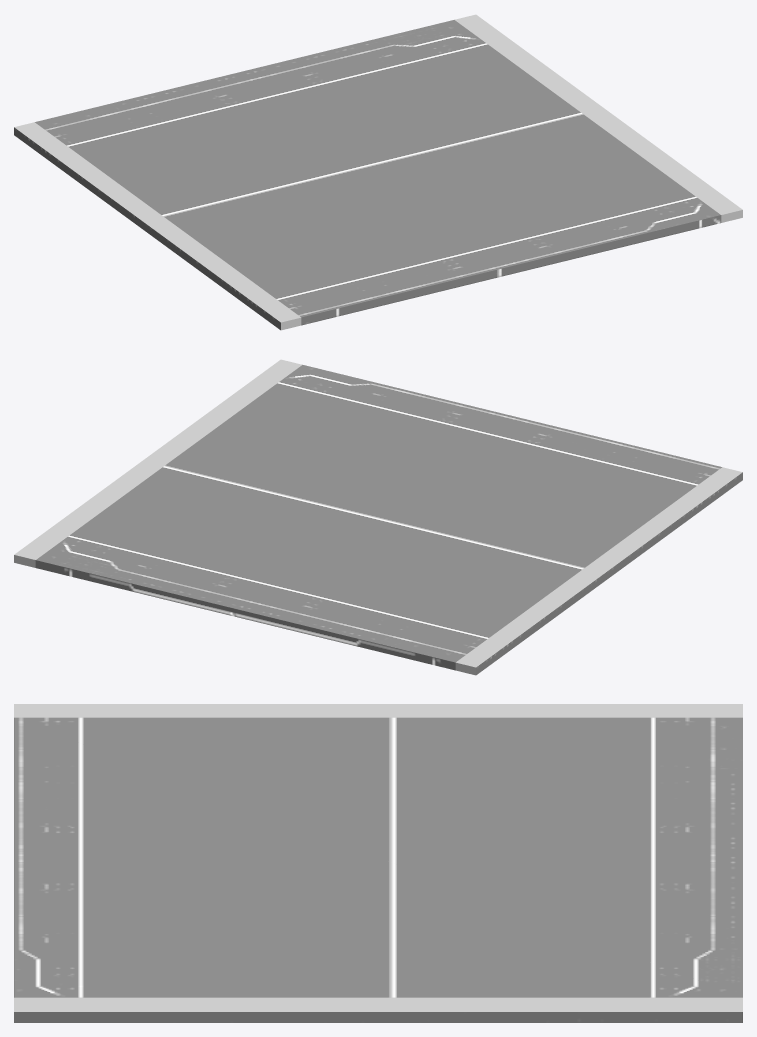
Rendered from Floor1.fbx.
3 views of the same model, one above another, from view 1: azimuth 30°, elevation 25°; view 2: azimuth 150°, elevation 25°; view 3: azimuth 270°, elevation 25° (orthographic). The views are drawn at different scales.
Visible parts, largest first — view 1: Floor1; view 2: Floor1; view 3: Floor1.
Boxes of the visible parts, x1,y1,x2,y2 form: Floor1: (14,14,742,330); Floor1: (14,359,742,675); Floor1: (14,704,742,1022).
Size of the model in its own units: 797 by 13.1 by 797.
